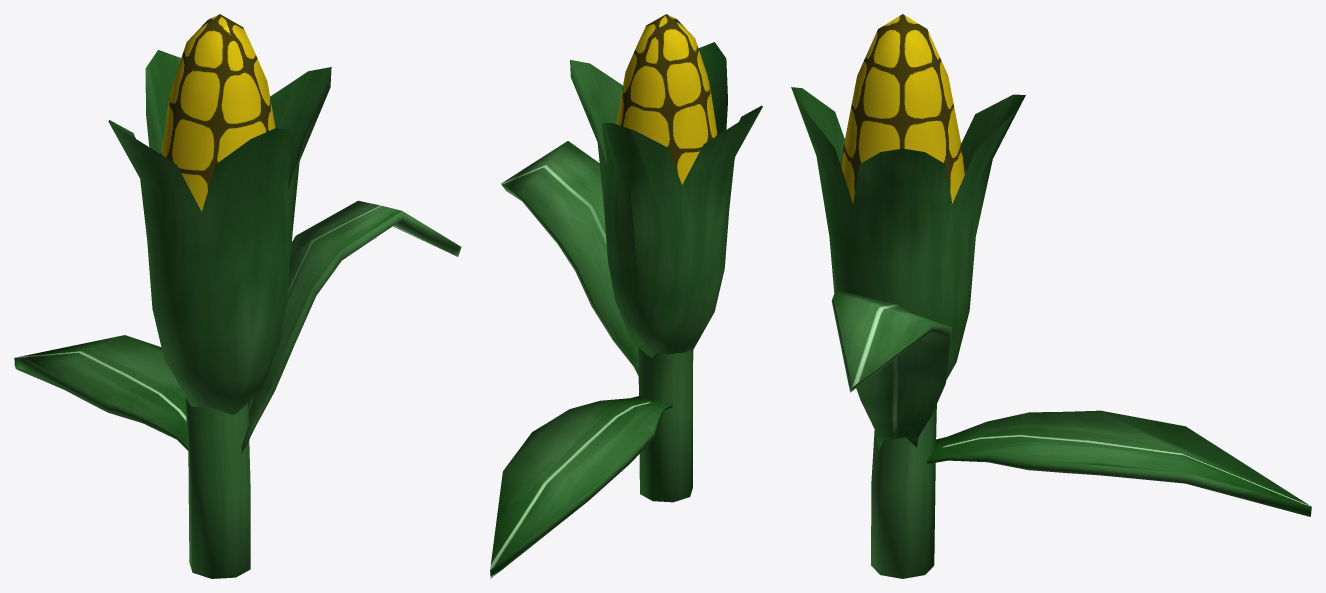
File: Corn.fbx
3 views of the same model, side by side, from view 1: azimuth 30°, elevation 25°; view 2: azimuth 150°, elevation 25°; view 3: azimuth 270°, elevation 25° (orthographic). The views are drawn at different scales.
Parts seen in each view (by area): view 1: Corn, Stalk, Leaf02, Leaf01; view 2: Corn, Leaf02, Leaf01, Stalk; view 3: Corn, Leaf02, Leaf01, Stalk.
Part boxes in pixels (bbox=[...]): Corn: bbox=[108, 14, 331, 414]; Stalk: bbox=[185, 396, 250, 578]; Leaf02: bbox=[14, 335, 188, 450]; Leaf01: bbox=[241, 200, 461, 453]; Corn: bbox=[570, 14, 762, 357]; Leaf02: bbox=[490, 396, 672, 578]; Leaf01: bbox=[501, 141, 638, 375]; Stalk: bbox=[636, 269, 693, 502]; Corn: bbox=[791, 14, 1025, 378]; Leaf02: bbox=[927, 410, 1311, 516]; Leaf01: bbox=[831, 290, 951, 451]; Stalk: bbox=[871, 404, 936, 578].
Size of the model in its own units: 75.33 by 121 by 104.
